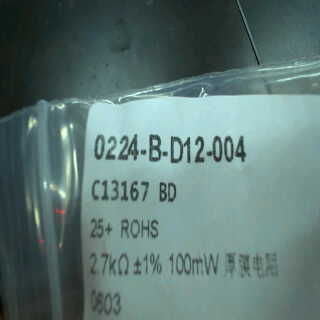2.7kR: (86, 251, 132, 281)
